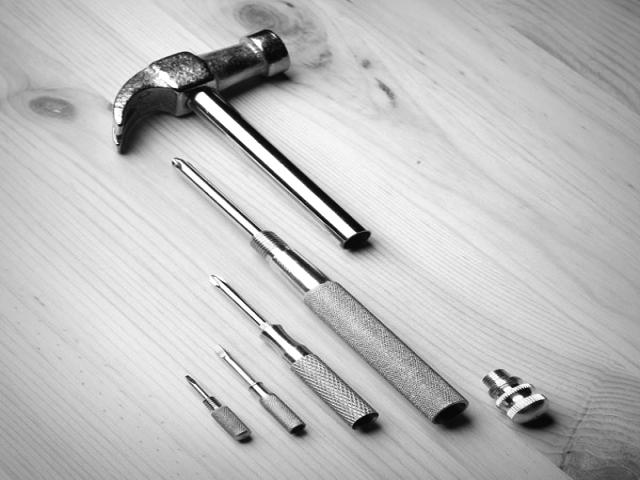Hammer: (112, 30, 370, 248)
Screwdriver: (172, 158, 468, 422), (210, 276, 362, 421), (214, 345, 305, 433), (187, 376, 249, 441)
